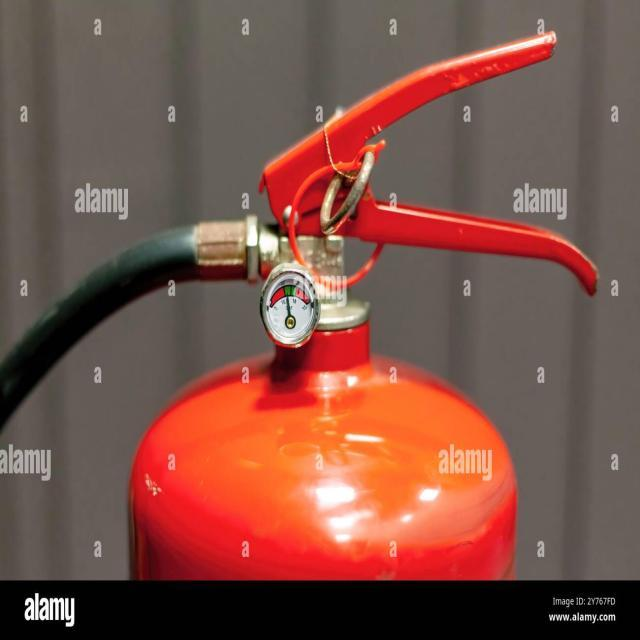pressure gauge: (260, 264, 319, 347)
